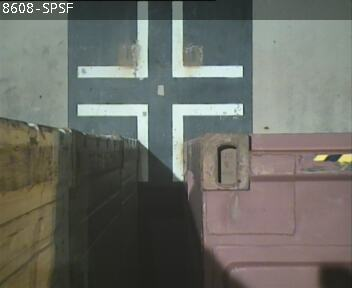groundmarker_1: (75, 102, 243, 182), (77, 4, 243, 78)
